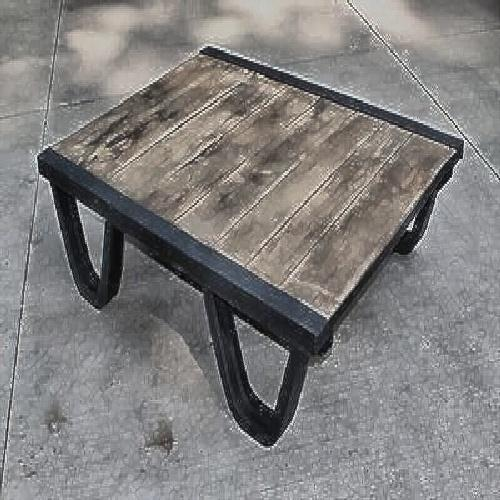table: (38, 40, 469, 439)
